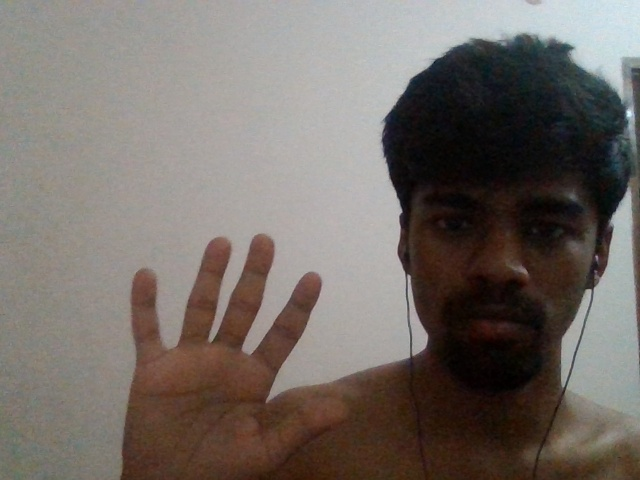Hello: (110, 224, 362, 480)
